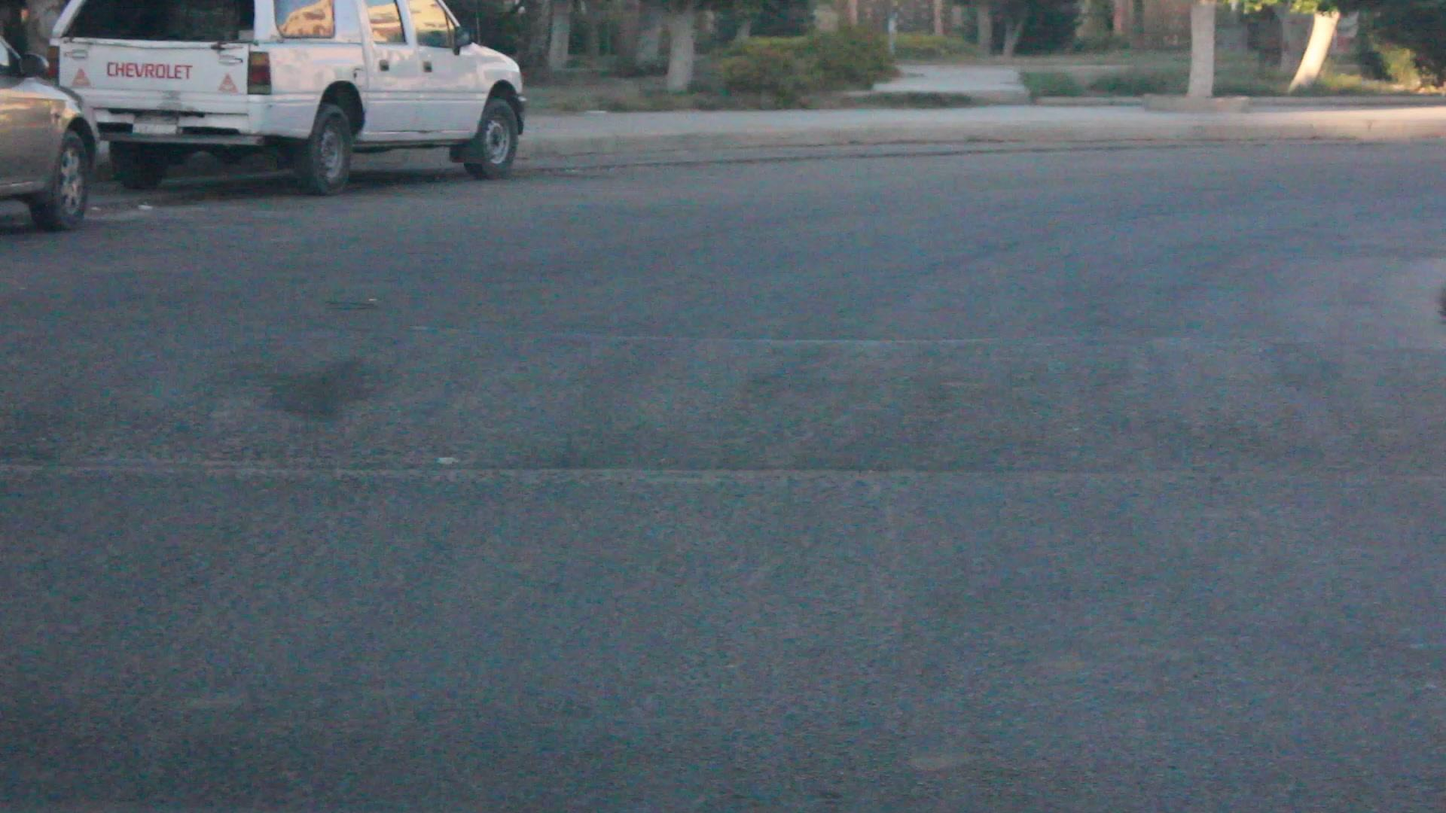Bump: (0, 314, 1445, 482)
